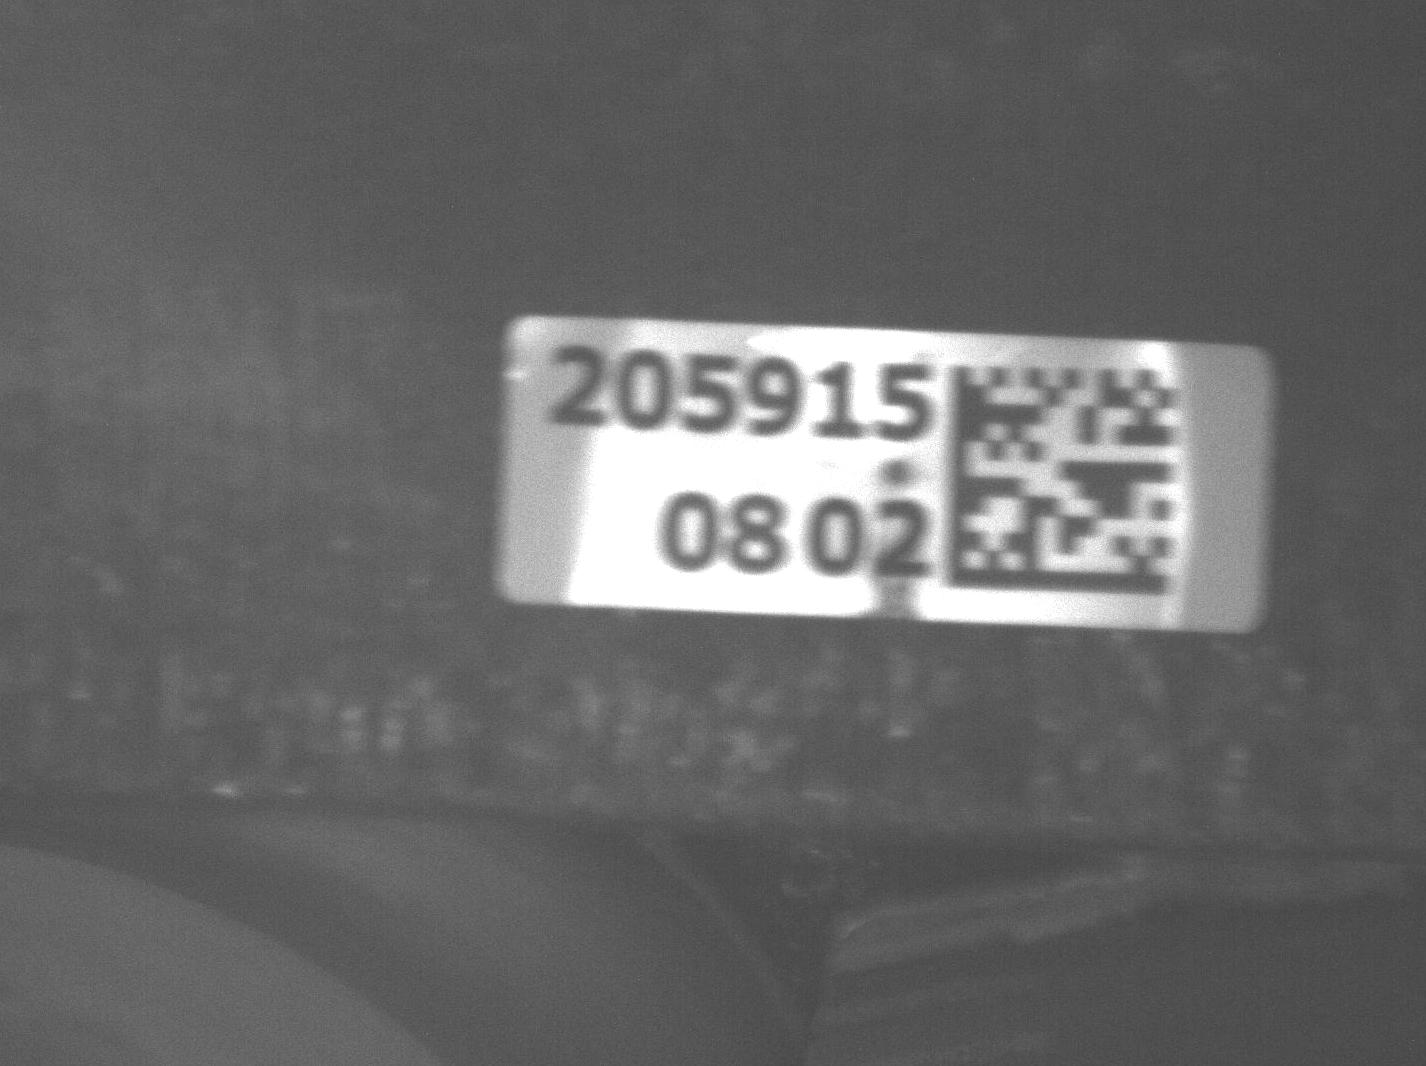data matrix: (936, 348, 1193, 610)
